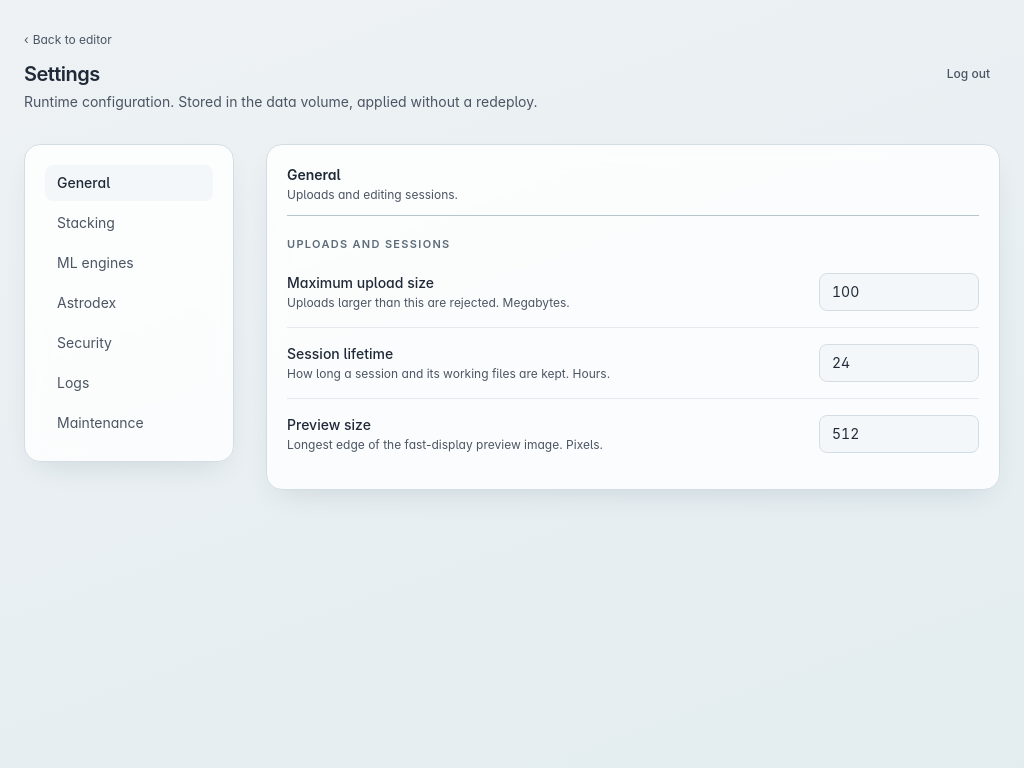
Scenario: SettingsView › shows disk usage and job history under the Maintenance section
Expected: the number field labelled "Maximum upload size" is shown, [819,272,979,310]
Click the button "Maintenance".
click(129, 423)  # box [45,405,213,441]
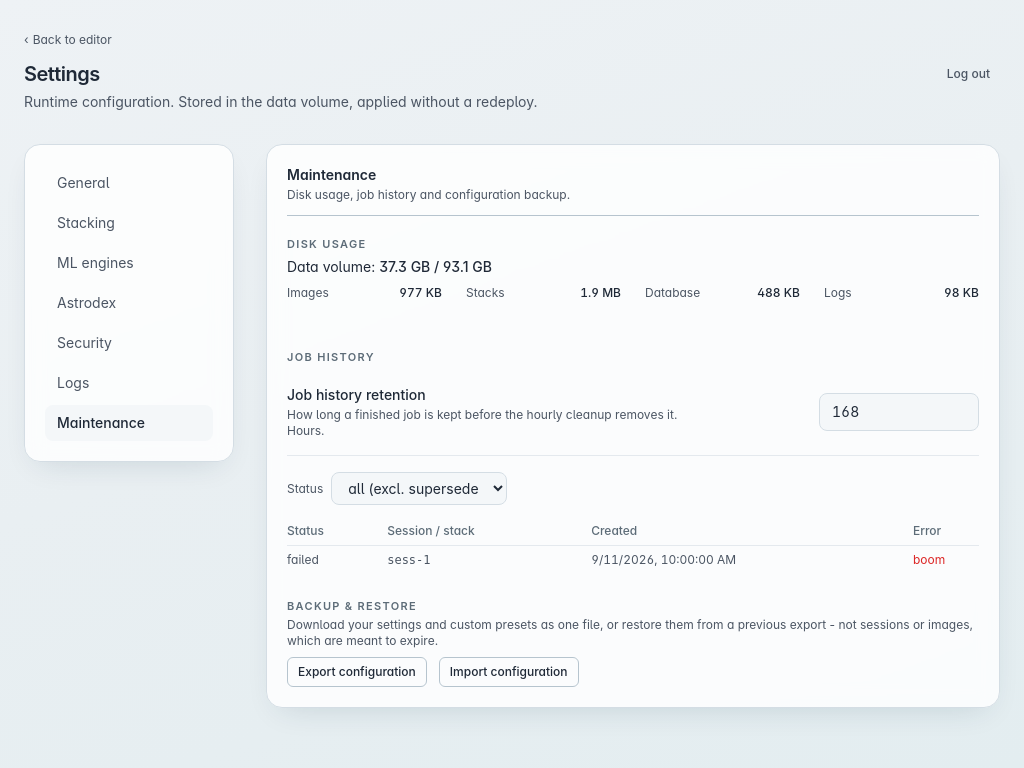
Expected: the text "boom" is shown, [913,546,979,574]
Expected: the text "37.3 GB / 93.1 GB" is shown, [379,258,492,274]
